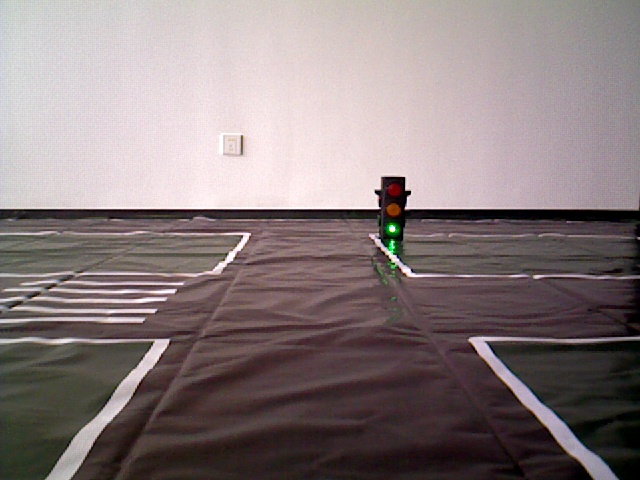green: (380, 176, 405, 240)
